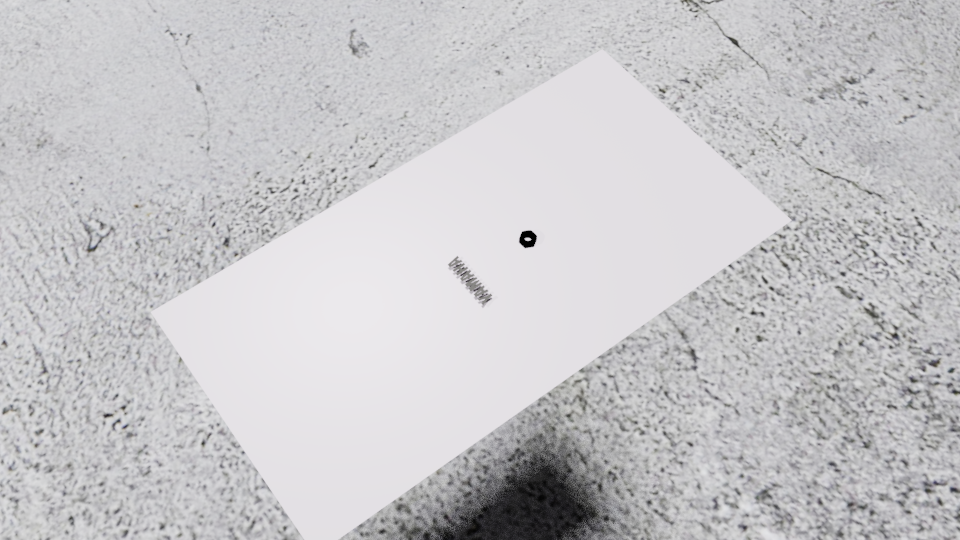yamaha_letters: (447, 255, 493, 306)
